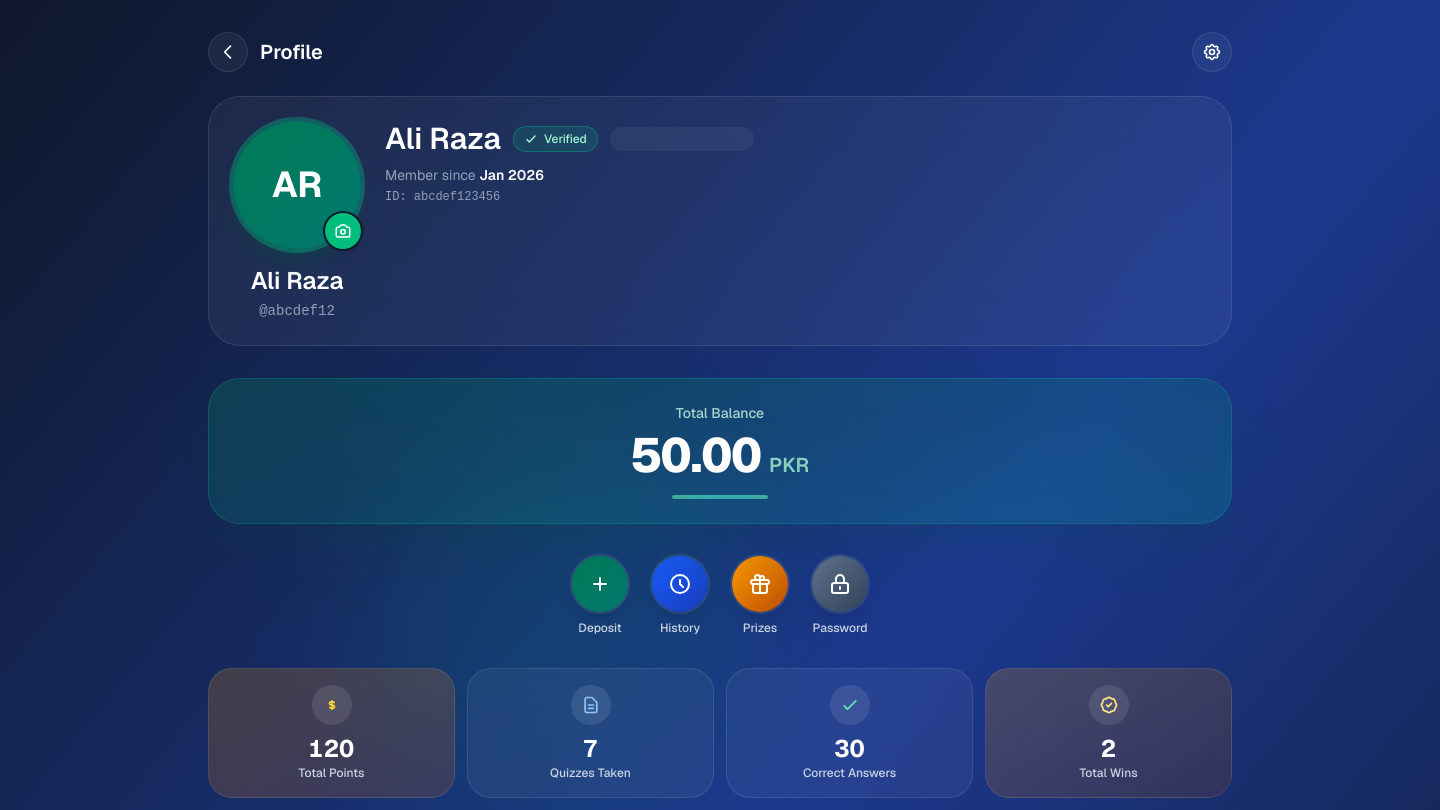
it: profile page › uploads a new profile picture
Click the button with aria-label "Update profile picture" at (297, 185), box 233,121 -> 361,249
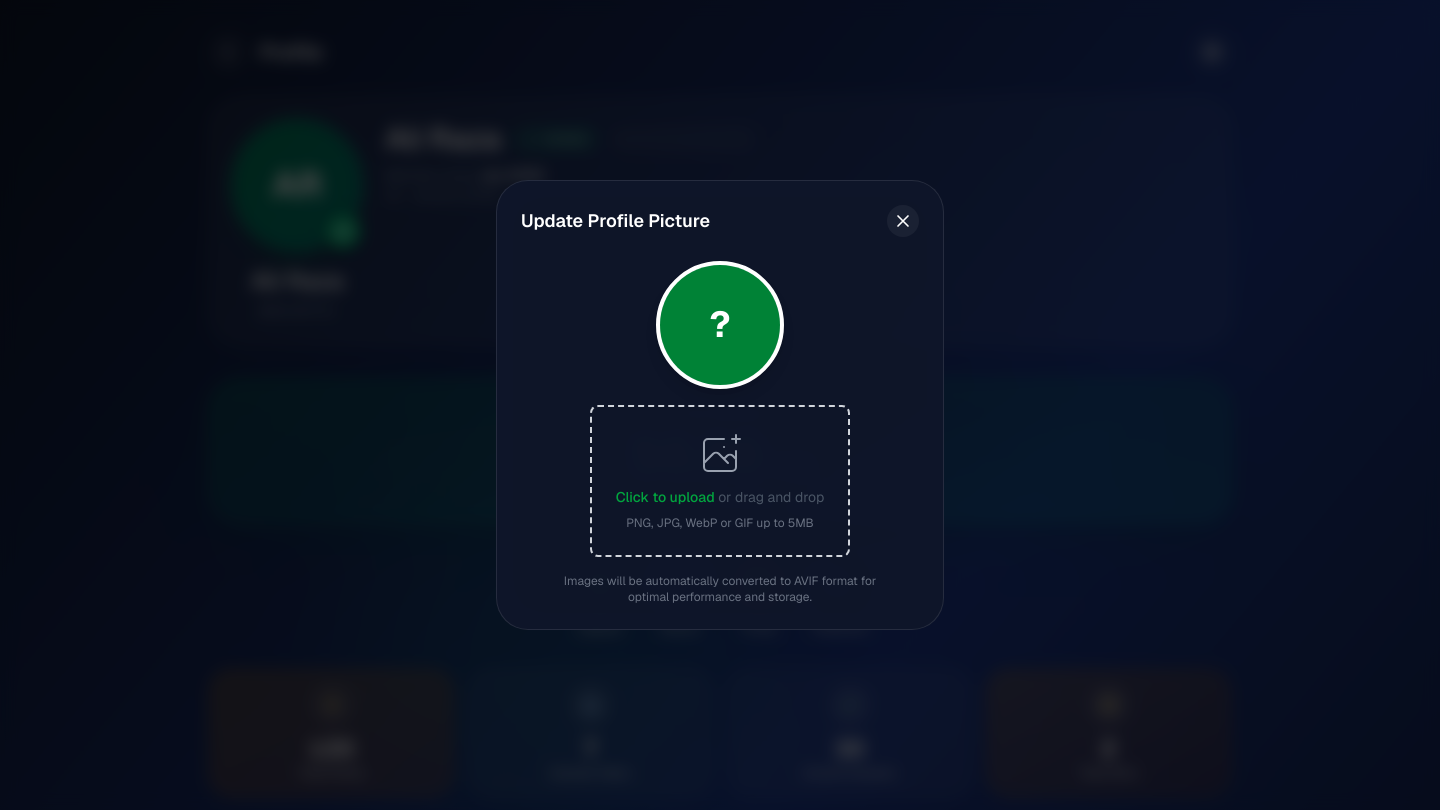
Expected: the dialog "Update Profile Picture" is shown
